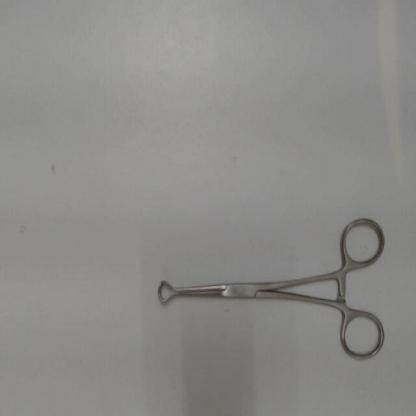Babcock Tissue Forceps: (155, 211, 389, 366)
